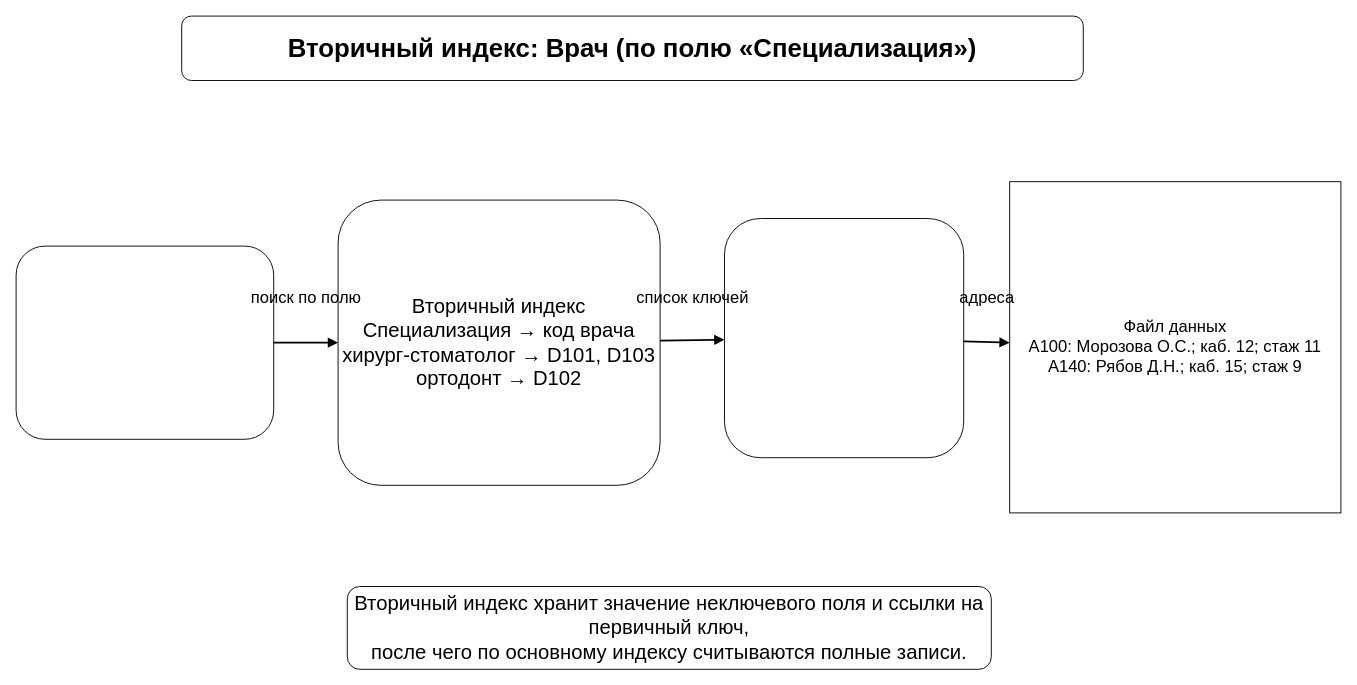
The diagram is 1357 pixels wide and 685 high, and some of its shapes have lost their labels. The centre of each missing label's shape, as x and y in pixels:
"Запрос: Показать всех врачей со специализацией «хирург-стоматолог»" goes at pixel 144 342.
"Основной индекс D101 → A100 D102 → A120 D103 → A140" goes at pixel 844 338.
